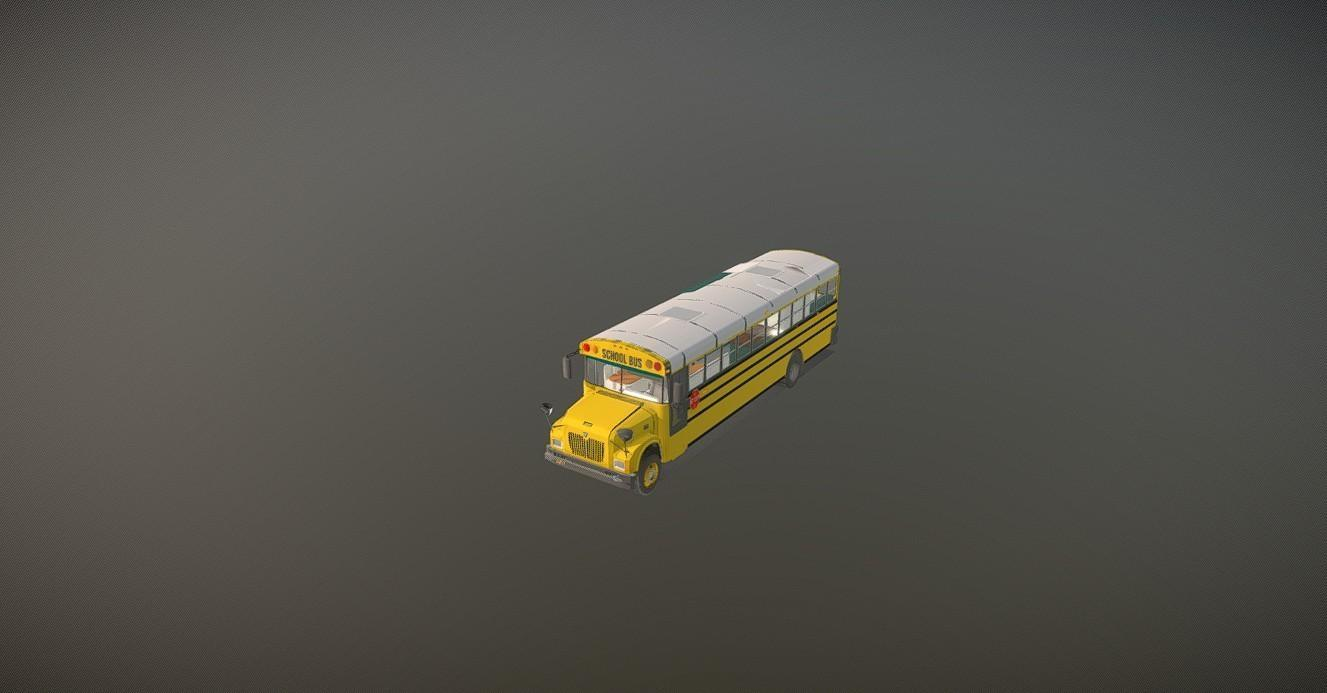Bus: (541, 247, 841, 495)
